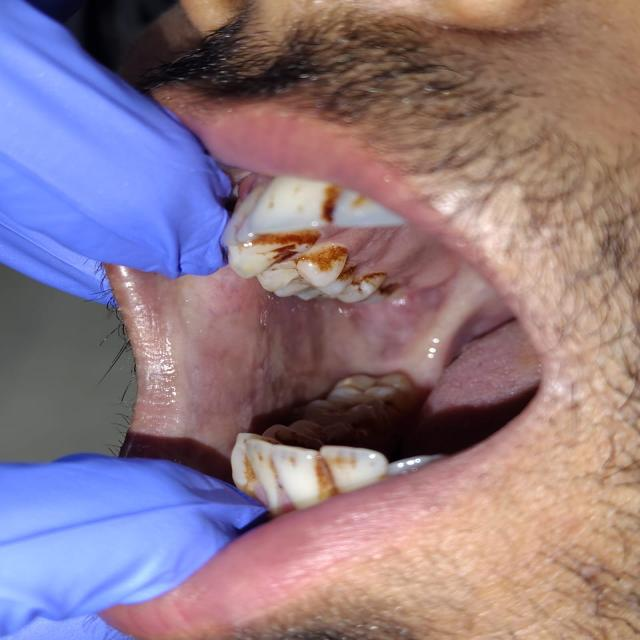leukoplakia-like-detection: (173, 279, 447, 428)
processing_area: (123, 226, 530, 450)
